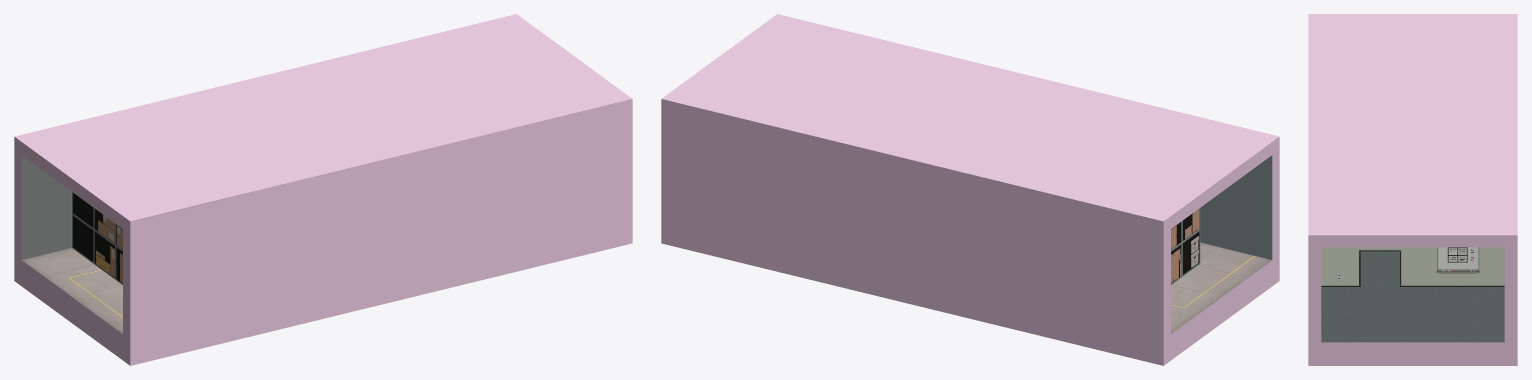
The model's file is Office_Module_1.fbx.
The picture shows the model from 3 angles, left to right: view 1: azimuth 30°, elevation 25°; view 2: azimuth 150°, elevation 25°; view 3: azimuth 270°, elevation 25°; orthographic projection. The views are drawn at different scales.
Parts seen in each view (by area): view 1: Module_7; view 2: Module_7; view 3: Module_7.
Part boxes in pixels (x1=…): Module_7: x1=14, y1=14, x2=632, y2=365; Module_7: x1=661, y1=14, x2=1279, y2=365; Module_7: x1=1308, y1=14, x2=1517, y2=365.
Size of the model in its own units: 4000 by 1100 by 1600.
1 material, 1 textured.
